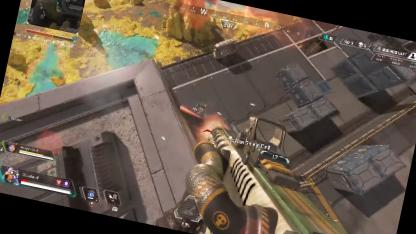Target: (191, 98, 208, 116)
